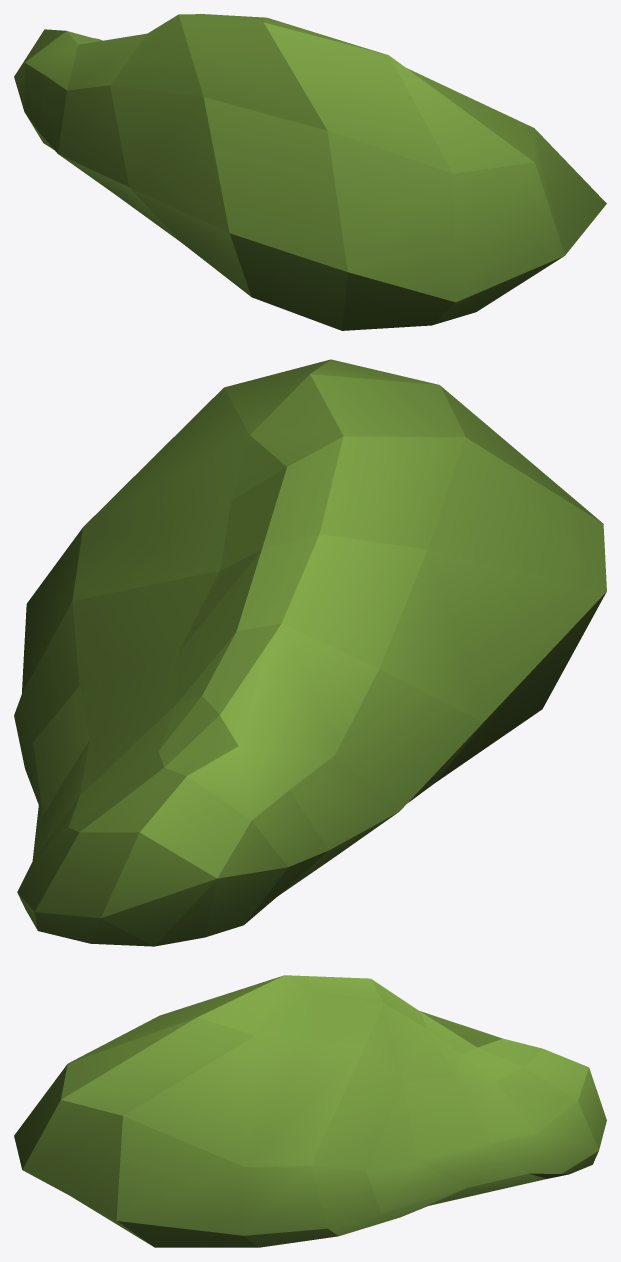
The model's file is Cavern_Bush-04.fbx.
The picture shows the model from 3 angles, top to bottom: view 1: azimuth 30°, elevation 25°; view 2: azimuth 150°, elevation 25°; view 3: azimuth 270°, elevation 25°; orthographic projection. The views are drawn at different scales.
Visible parts, largest first — view 1: Cavern_Bush-04; view 2: Cavern_Bush-04; view 3: Cavern_Bush-04.
Part boxes in pixels (left/top/right/bottom): Cavern_Bush-04: left=14, top=14, right=606, bottom=330; Cavern_Bush-04: left=14, top=359, right=606, bottom=946; Cavern_Bush-04: left=14, top=975, right=606, bottom=1247.
Size of the model in its own units: 267 by 148 by 438.
Materials: 1 (1 with a texture image).
